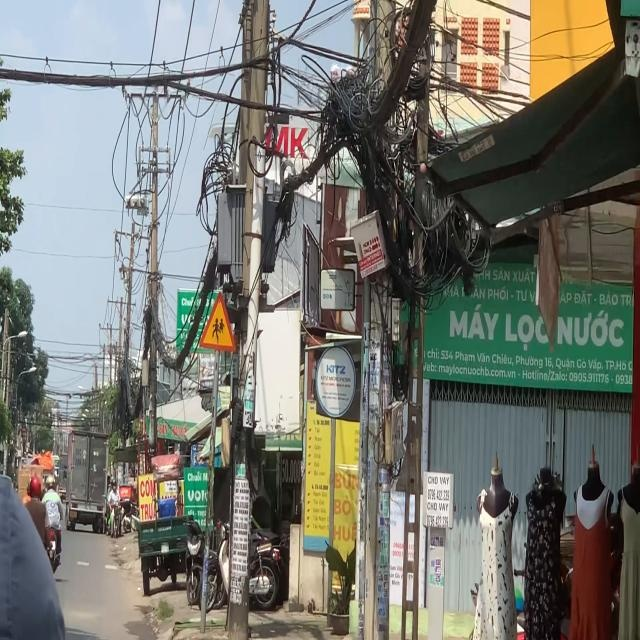bien_nguy_hiem: (199, 291, 236, 353)
